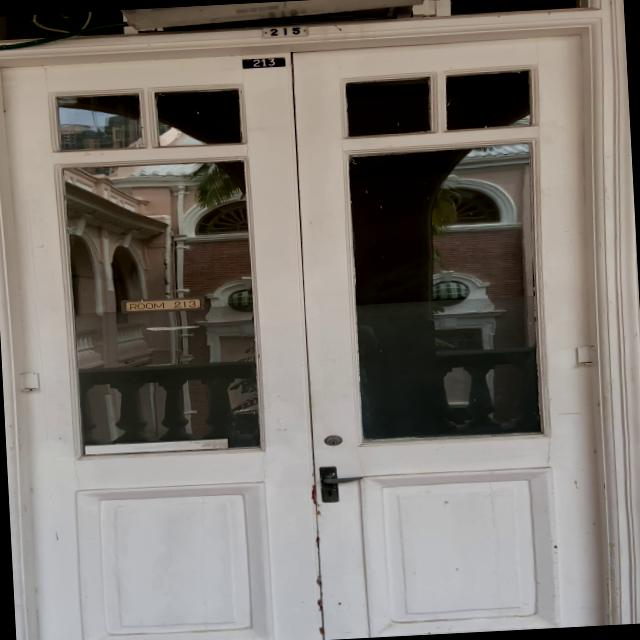room213: (240, 54, 289, 69)
room213Window: (122, 293, 202, 315)
